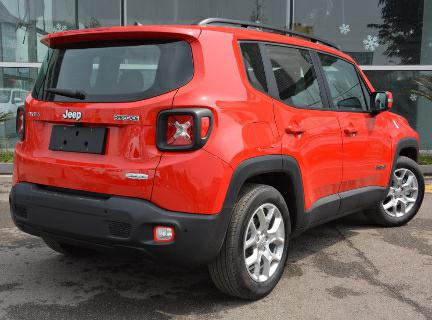Jeep-自由侠: (6, 17, 428, 304)
